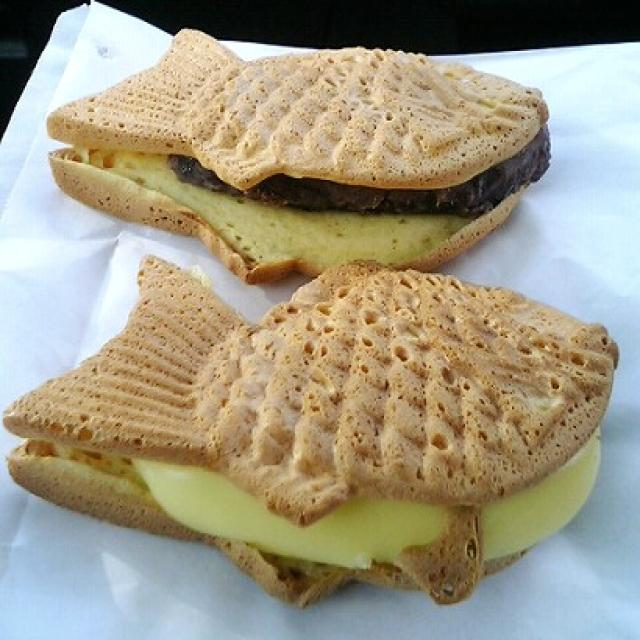熟制海鲜: (0, 22, 617, 589)
